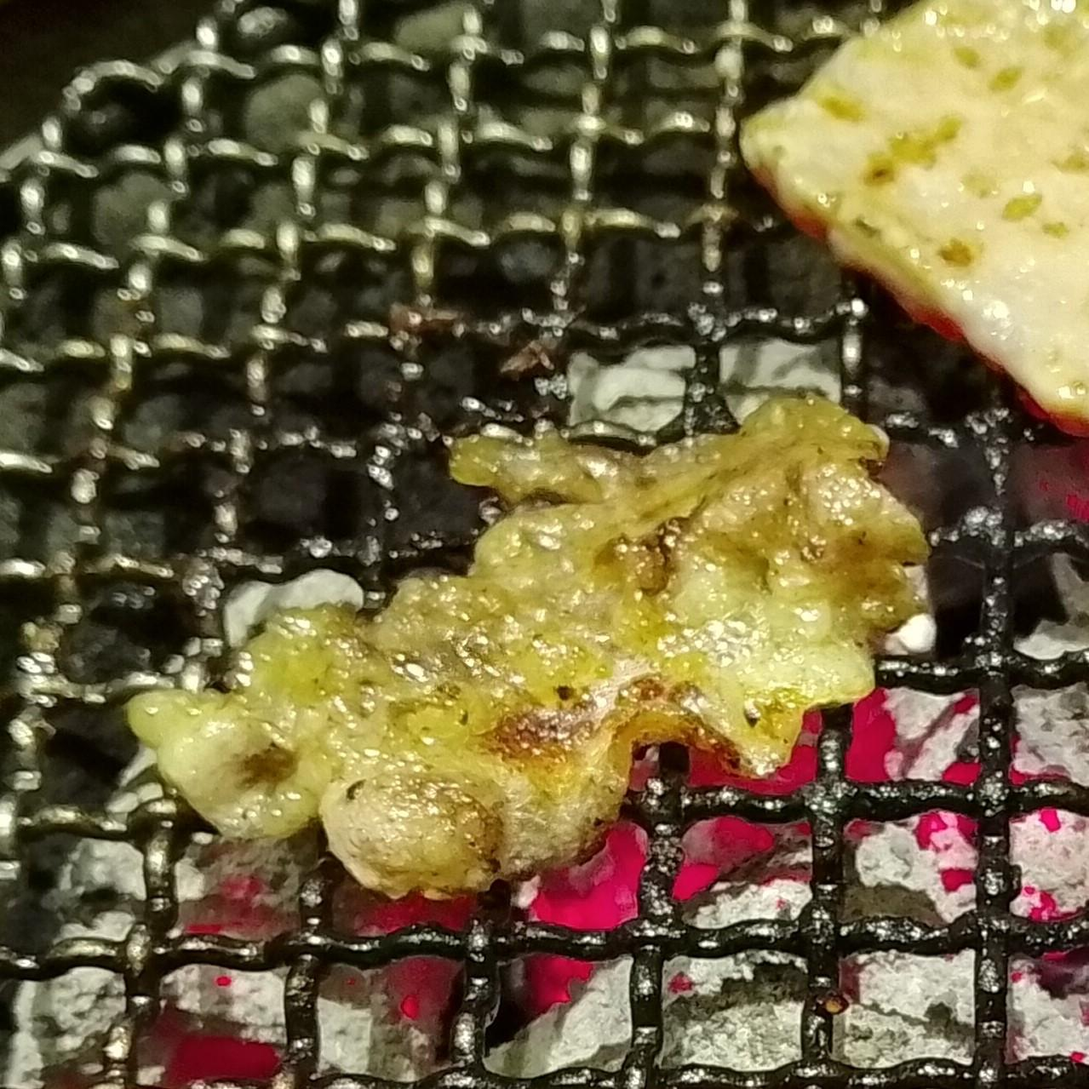Undercooked: (740, 0, 1088, 439)
Well-Cooked: (122, 398, 928, 901)
